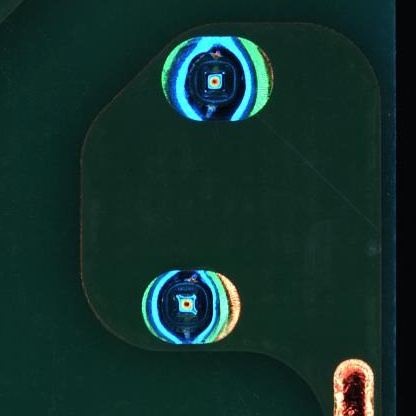spot: (161, 34, 275, 122), (142, 269, 241, 345)
